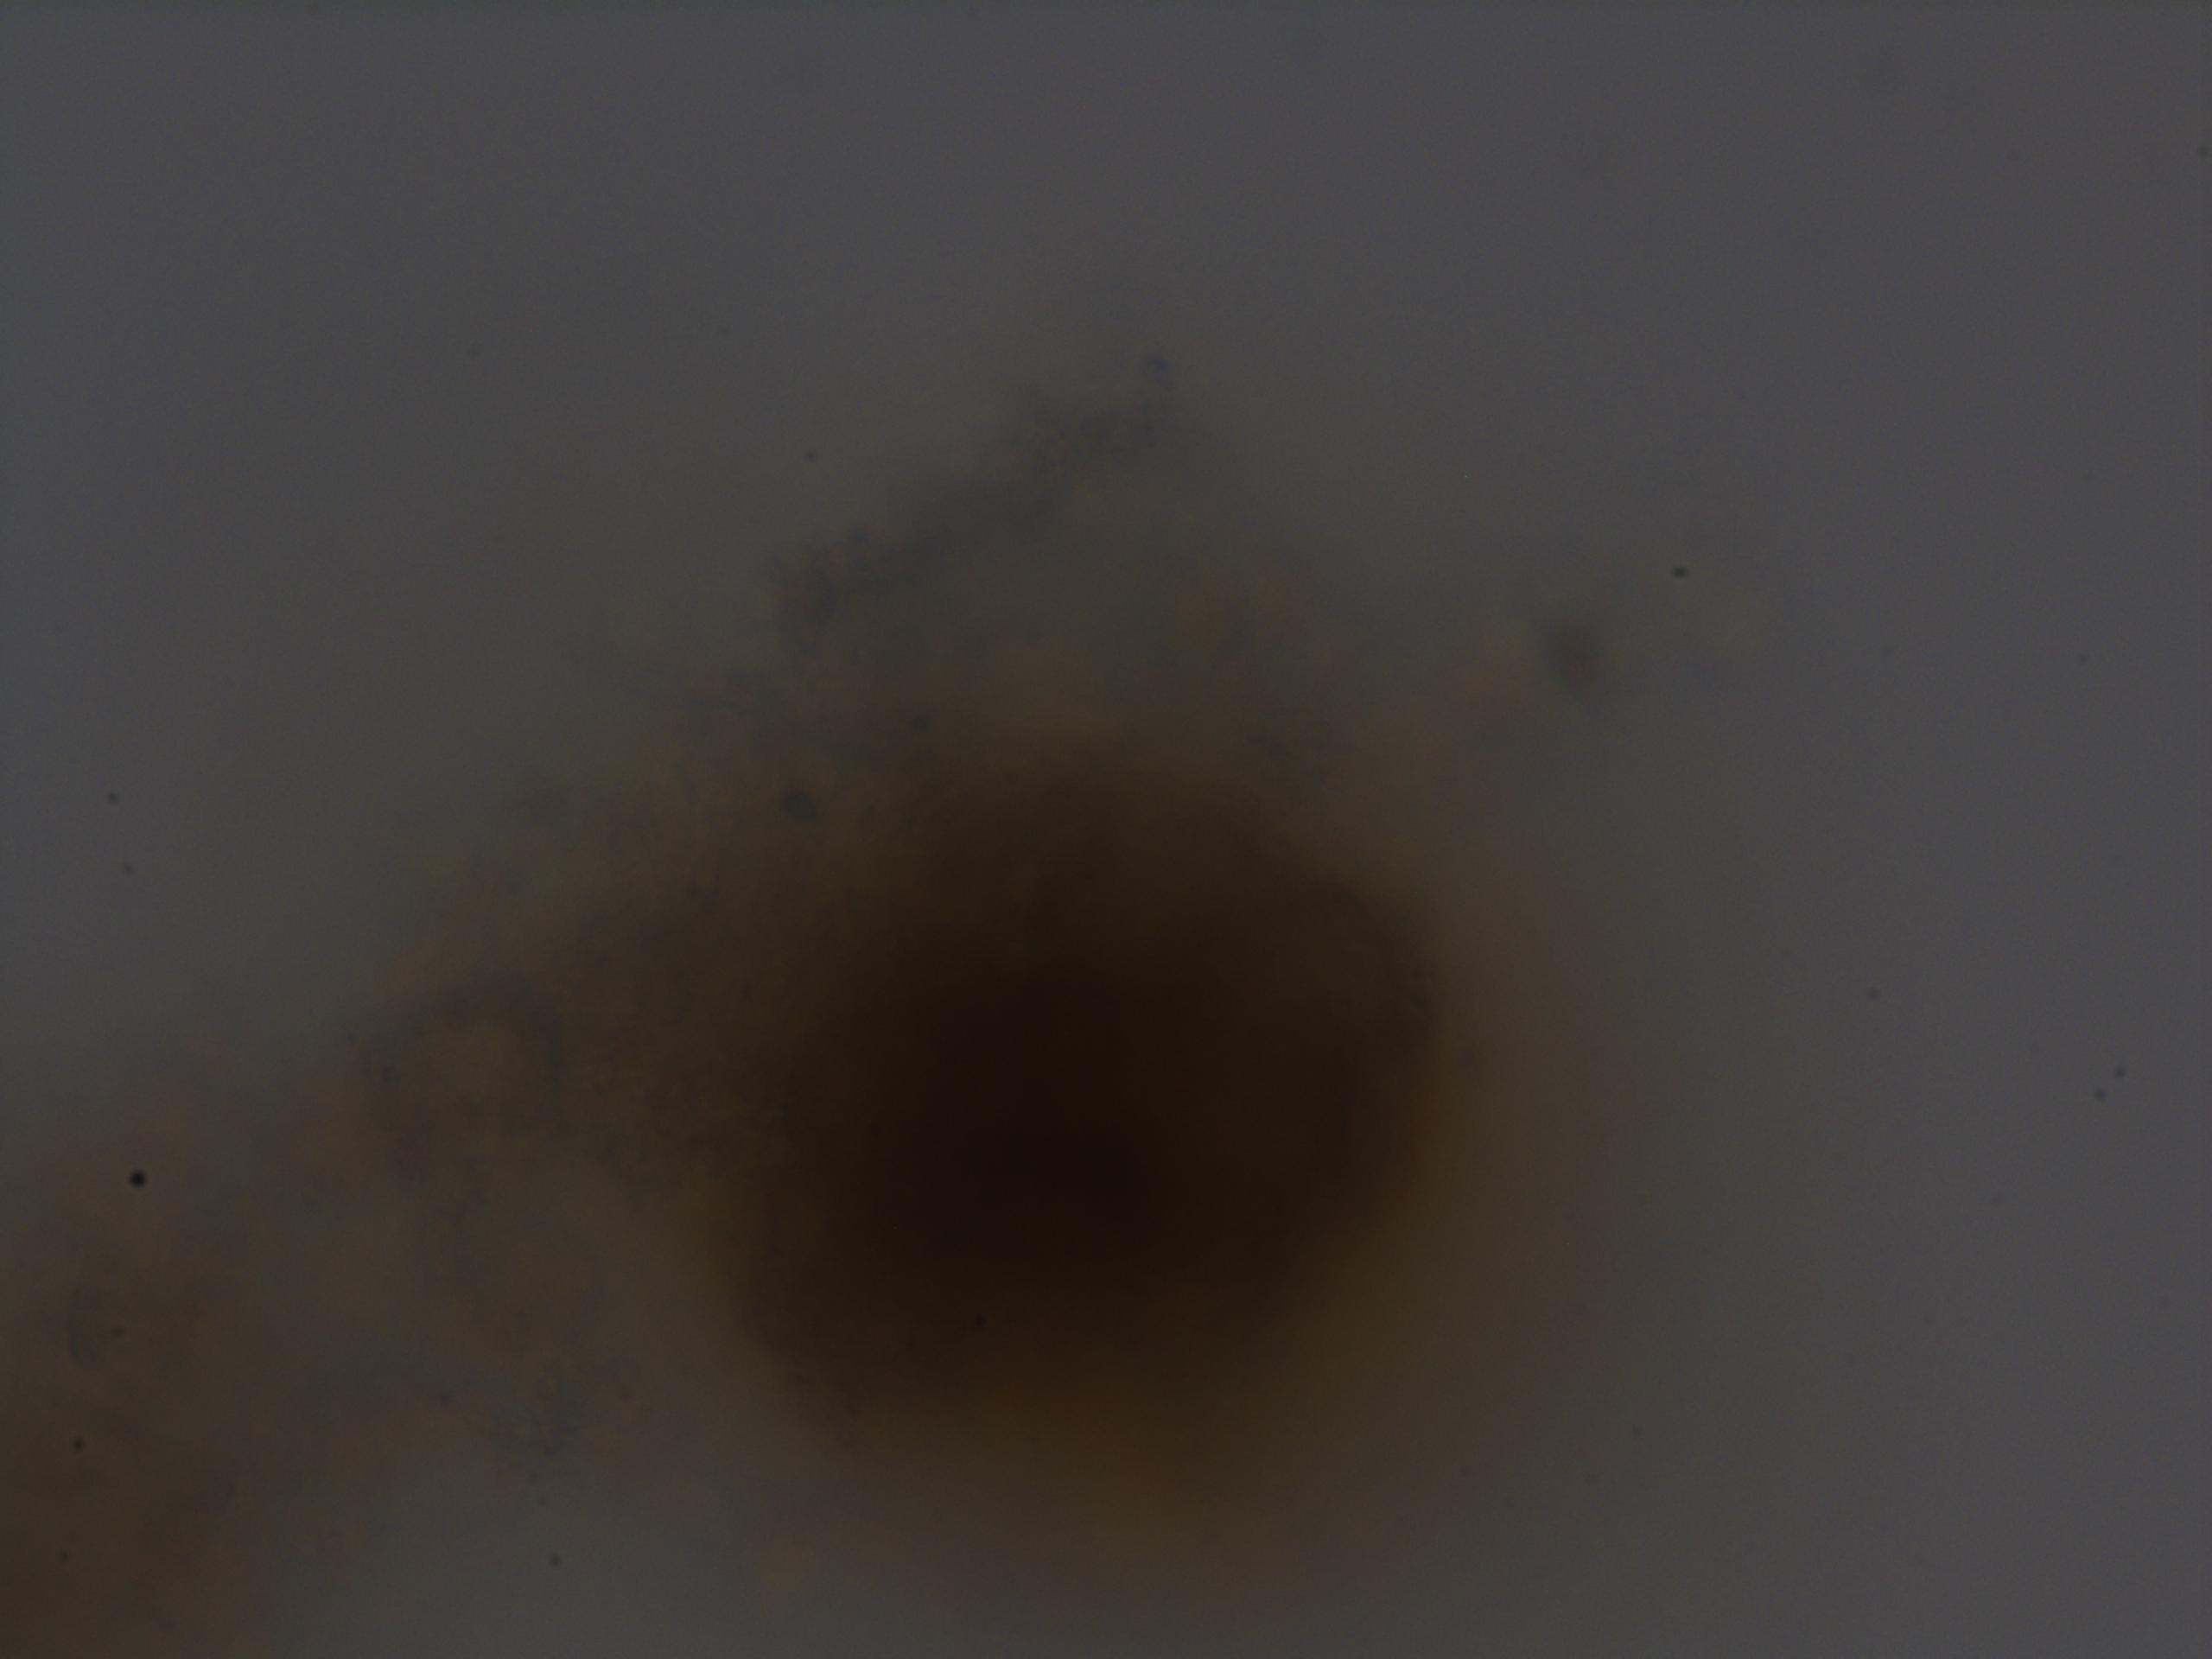spherical_floc: (629, 688, 1482, 1480)
